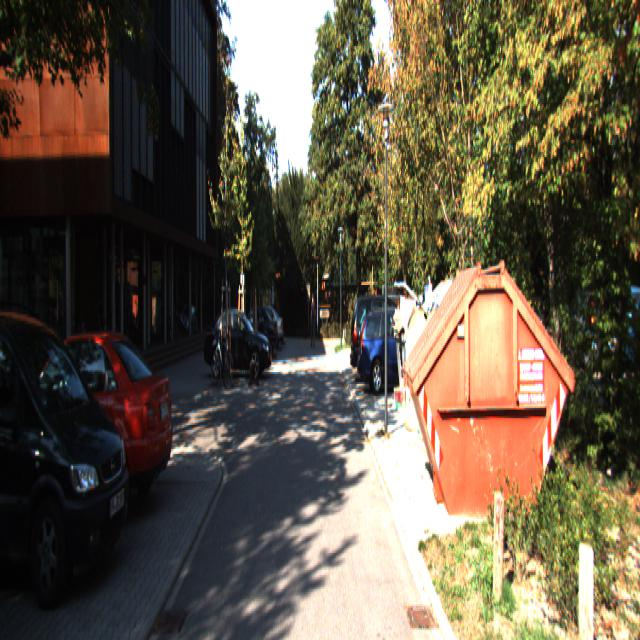Car: (0, 286, 136, 608), (0, 325, 176, 527), (357, 304, 436, 394), (349, 290, 420, 382), (204, 308, 273, 378), (230, 306, 278, 359), (628, 281, 640, 422), (245, 306, 285, 348)
